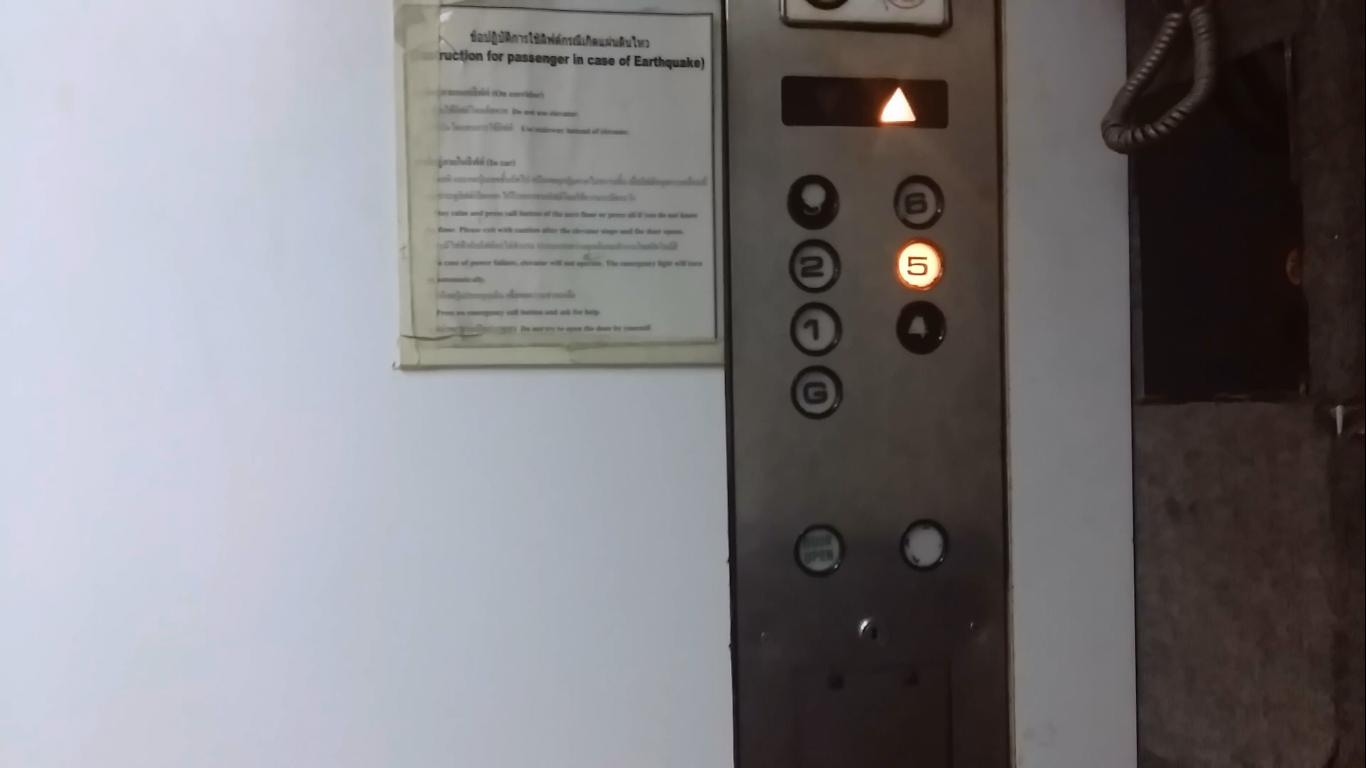1: (791, 303, 843, 362)
2: (788, 235, 840, 294)
5: (893, 237, 948, 298)
6: (889, 169, 947, 235)
G: (789, 361, 843, 425)
blur: (894, 297, 950, 359)
empty: (896, 514, 952, 571)
led: (782, 76, 953, 137)
text_blur: (788, 519, 849, 577)
unknown: (784, 169, 842, 231)
